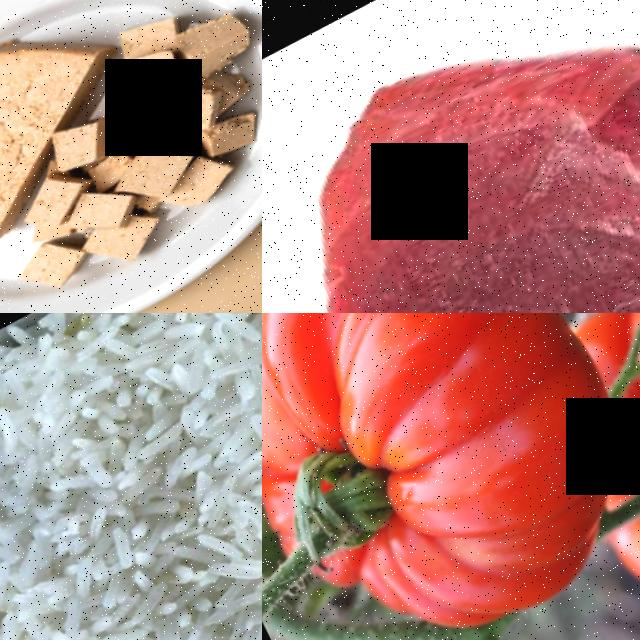tofu: (102, 136, 201, 222), (132, 77, 228, 161), (168, 11, 260, 96), (99, 40, 191, 122), (4, 230, 89, 308), (6, 167, 93, 242), (37, 113, 119, 187), (188, 108, 262, 174)
tomato: (262, 313, 640, 640)
tuna: (262, 0, 640, 313)
white rice: (0, 313, 262, 640)
